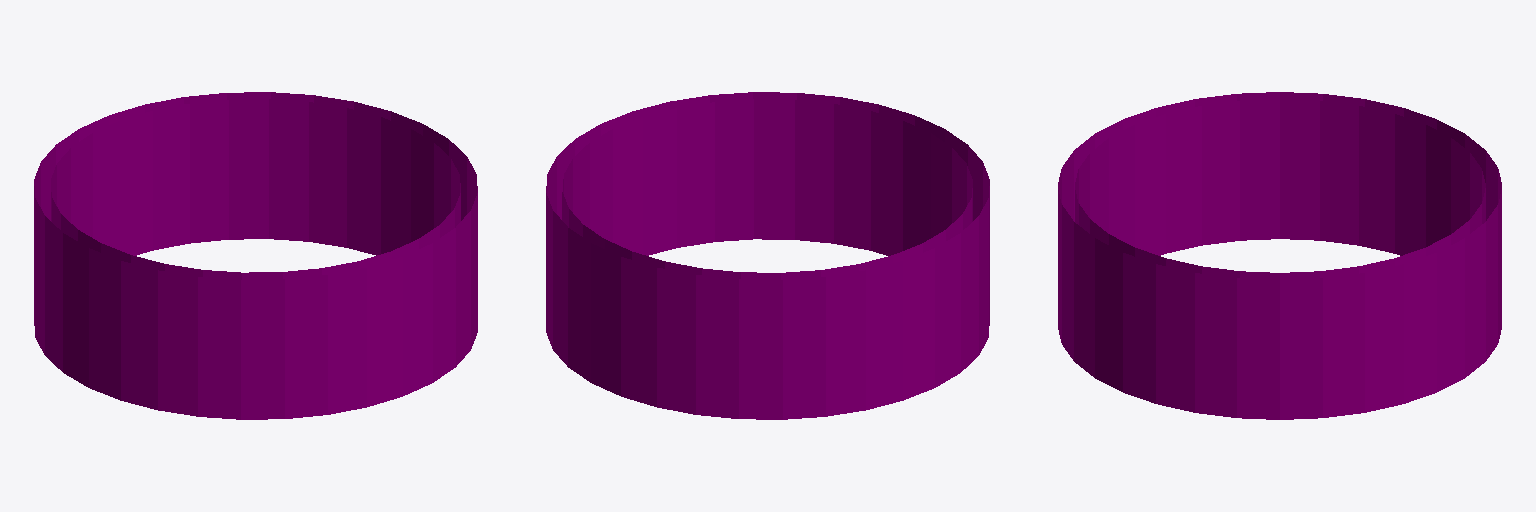
The model's file is MoveLimit.obj.
3 renders of one model, left to right at view 1: azimuth 30°, elevation 25°; view 2: azimuth 150°, elevation 25°; view 3: azimuth 270°, elevation 25°, orthographic.
Parts seen in each view (by area): view 1: MoveLimit_BossBegomanPlanetCollision.001; view 2: MoveLimit_BossBegomanPlanetCollision.001; view 3: MoveLimit_BossBegomanPlanetCollision.001.
Part boxes in pixels (x1,y1,x2,y2): MoveLimit_BossBegomanPlanetCollision.001: (34, 92, 477, 419); MoveLimit_BossBegomanPlanetCollision.001: (546, 92, 989, 419); MoveLimit_BossBegomanPlanetCollision.001: (1058, 92, 1501, 419).
Bounding box in the file's own units: 2377 × 826 × 2377.